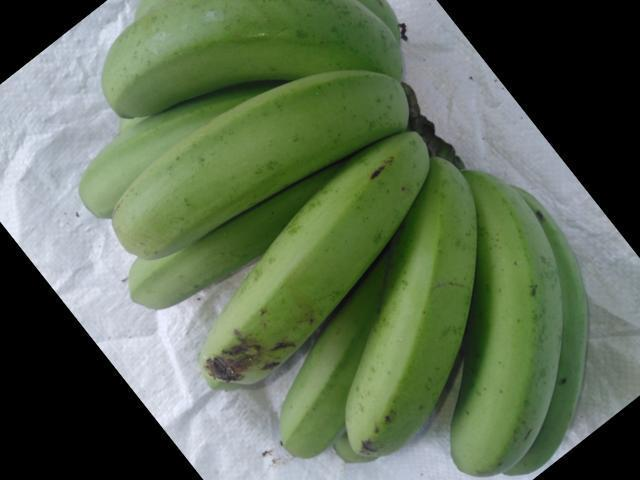unripe: (101, 63, 423, 241), (194, 134, 405, 395), (344, 181, 490, 455), (429, 170, 554, 475), (85, 2, 405, 103)
